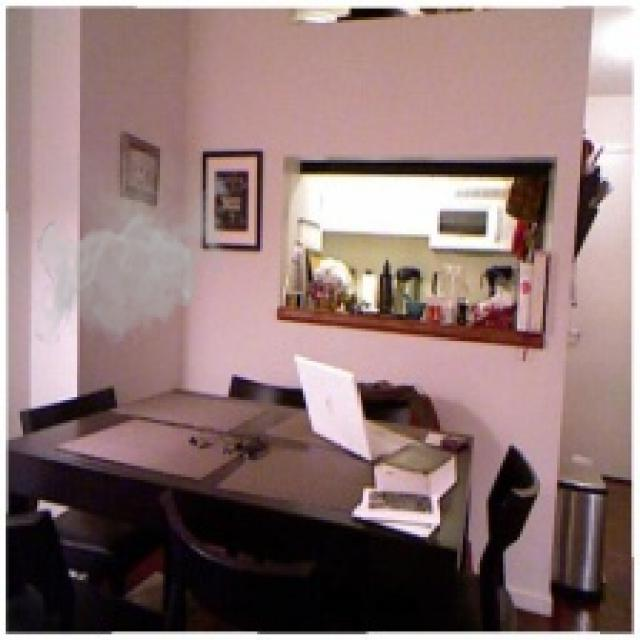smoke: (34, 152, 237, 352)
